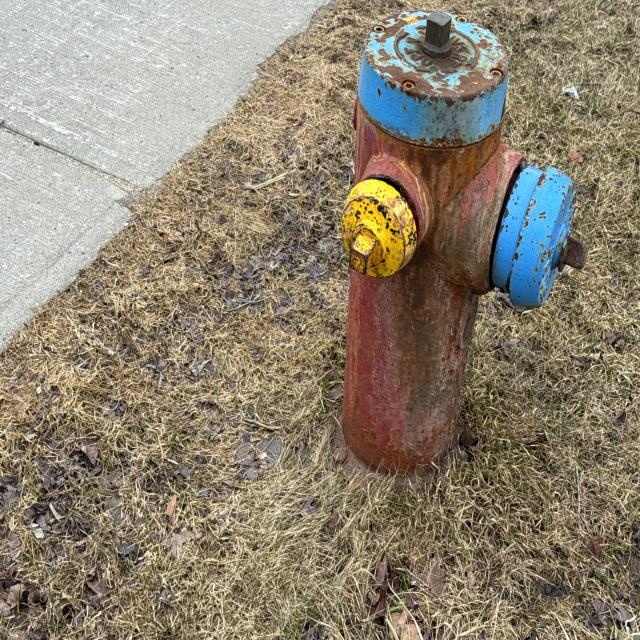Fire hydrant: (330, 9, 590, 497)
